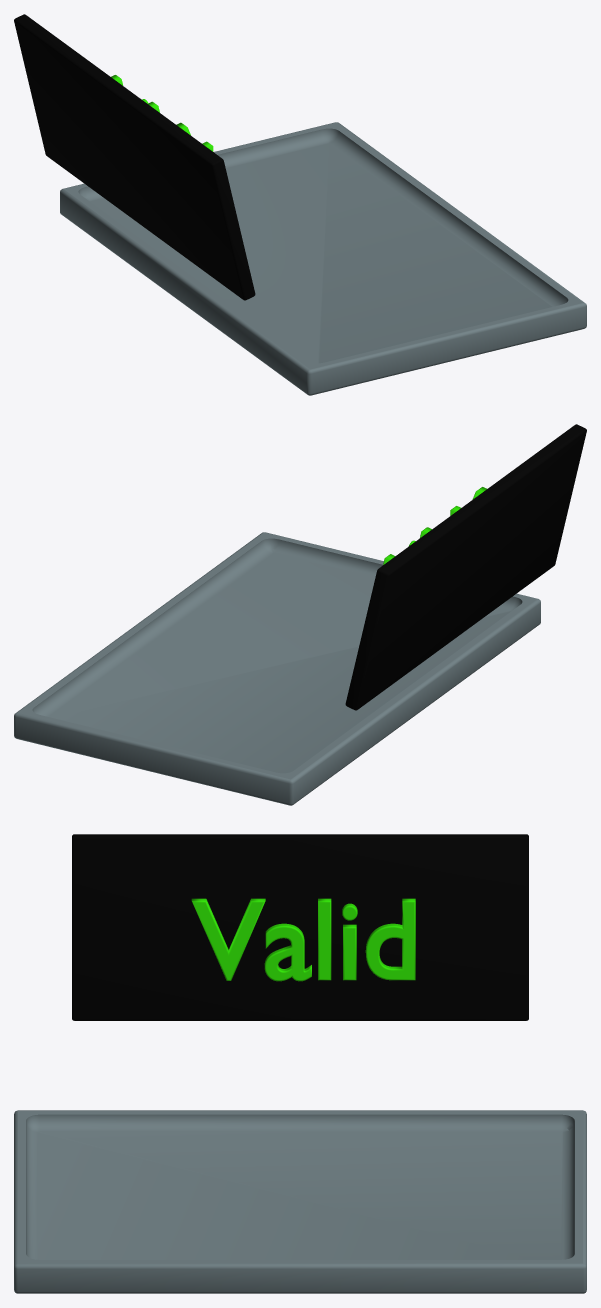
Rendered from Valid Plate.fbx.
3 renders of one model, top to bottom at view 1: azimuth 30°, elevation 25°; view 2: azimuth 150°, elevation 25°; view 3: azimuth 270°, elevation 25°, orthographic. The views are drawn at different scales.
Parts seen in each view (by area): view 1: Cube.002; view 2: Cube.002; view 3: Cube.002, Text.
Boxes of the visible parts, left/top/right/bottom form: Cube.002: left=14, top=14, right=586, bottom=395; Cube.002: left=14, top=424, right=586, bottom=805; Cube.002: left=14, top=834, right=586, bottom=1293; Text: left=191, top=898, right=415, bottom=981.
Bounding box in the file's own units: 106 × 67.78 × 131.
